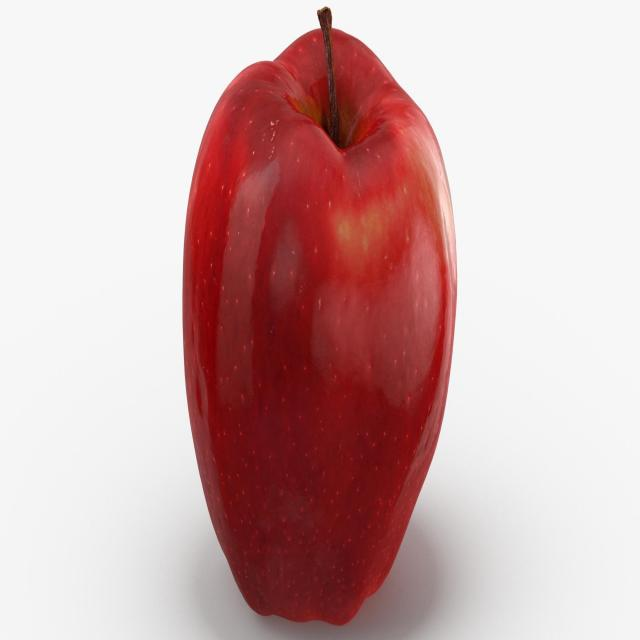Apple: (175, 3, 462, 624)
